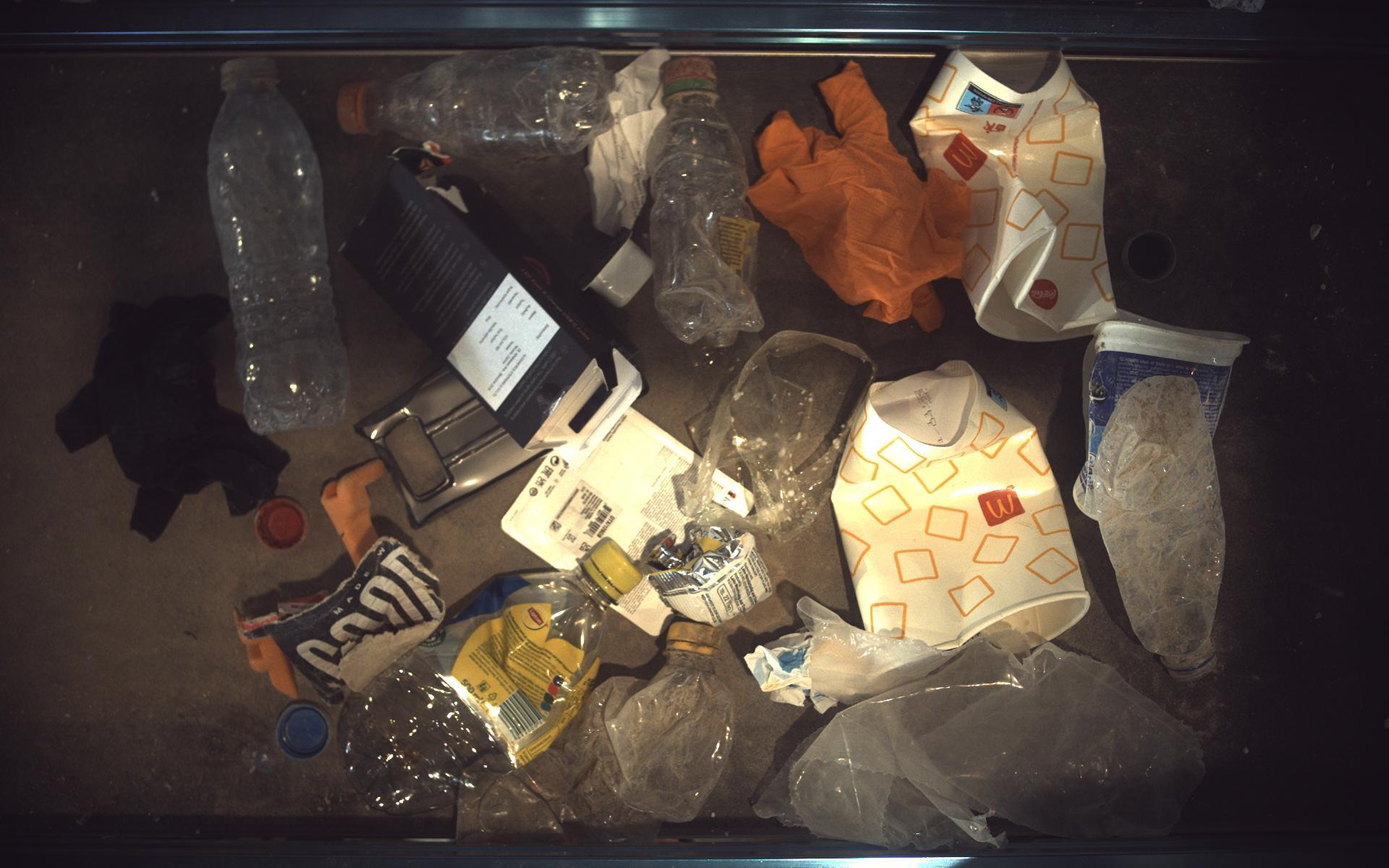general_w: (760, 637, 1207, 850), (342, 147, 643, 462), (339, 539, 644, 815), (833, 360, 1092, 650), (458, 622, 734, 846), (749, 60, 972, 331), (913, 51, 1119, 341), (54, 296, 289, 541), (207, 56, 348, 435), (676, 331, 877, 541), (1097, 377, 1227, 682), (1076, 310, 1252, 519), (649, 54, 764, 359), (241, 538, 444, 702), (501, 409, 695, 570), (338, 46, 613, 157), (354, 366, 541, 527), (746, 597, 950, 714), (586, 47, 671, 234), (647, 527, 773, 626), (320, 459, 386, 566), (589, 239, 655, 307), (242, 637, 298, 701), (616, 575, 673, 637), (276, 705, 328, 761), (253, 497, 306, 550), (1125, 230, 1179, 282), (717, 472, 753, 514)
